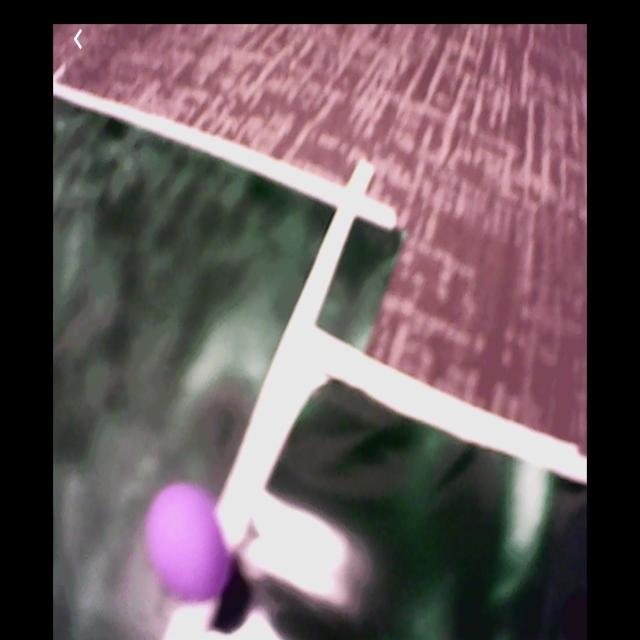ball: (146, 484, 226, 596)
